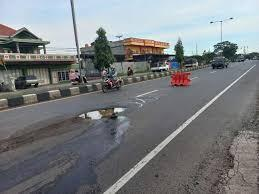Pothole: (64, 99, 137, 126)
